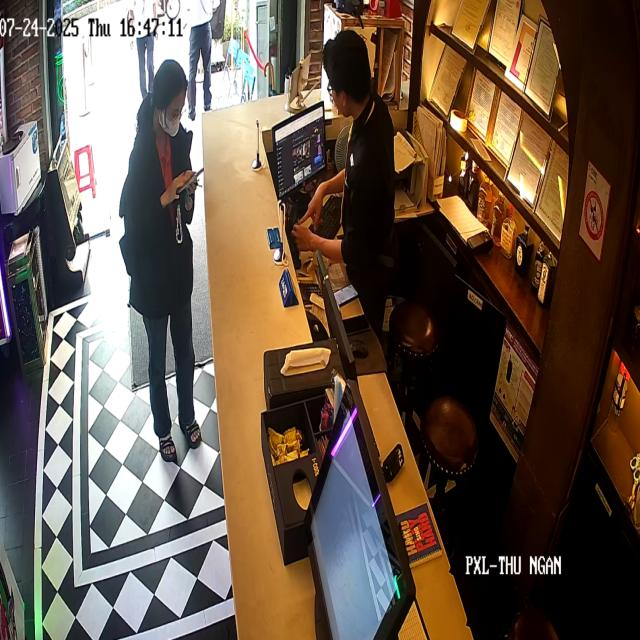khach: (124, 54, 214, 486)
nhan vien: (304, 15, 409, 338)
